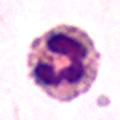eosi: (24, 21, 102, 102)
